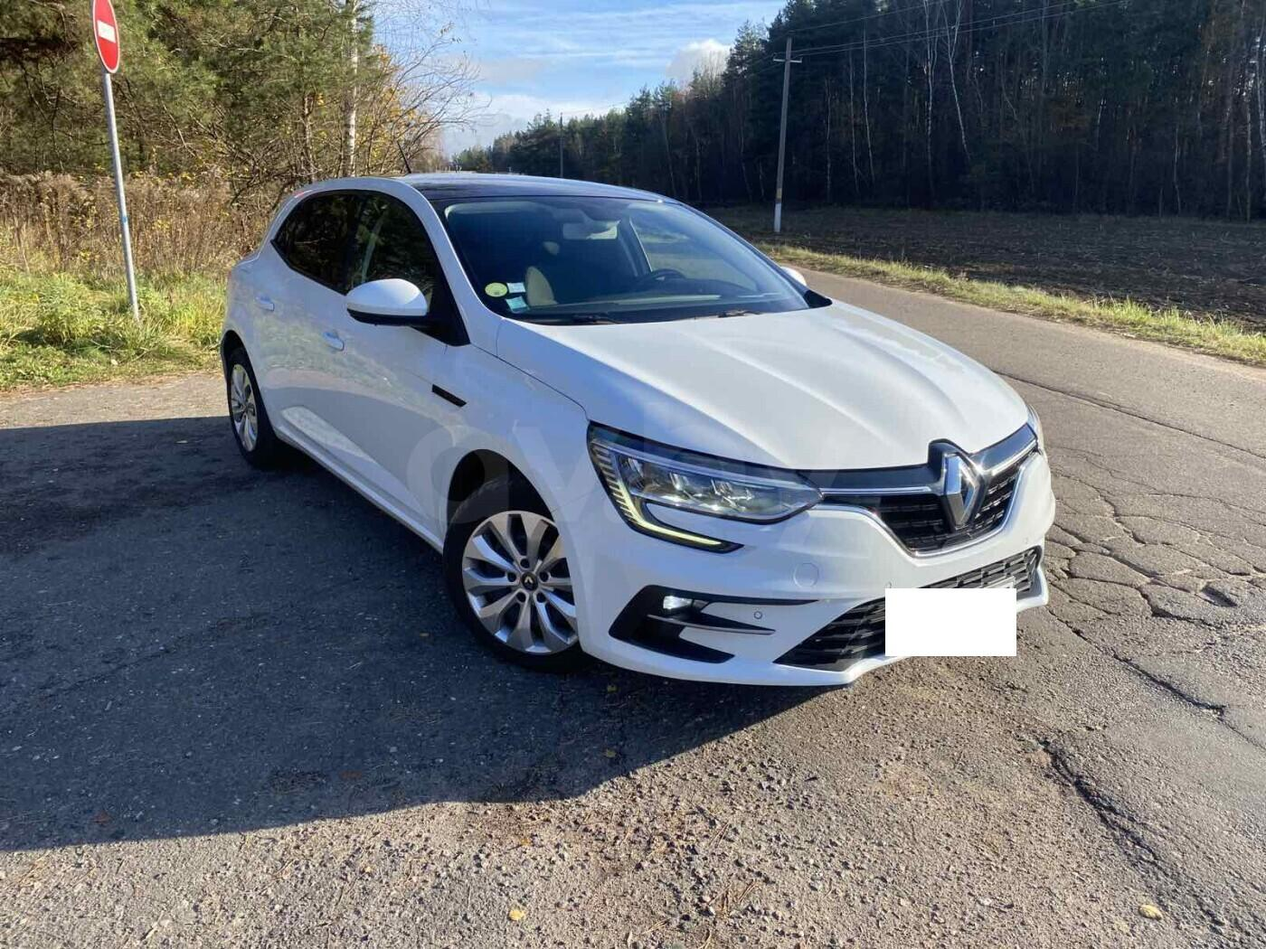Megane_2020: (212, 170, 1067, 736)
